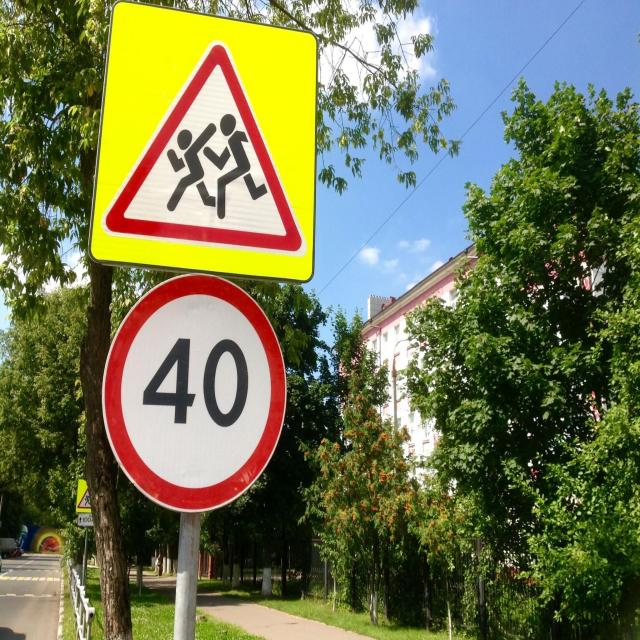Traffic sign: (87, 4, 319, 282), (102, 269, 290, 516)
